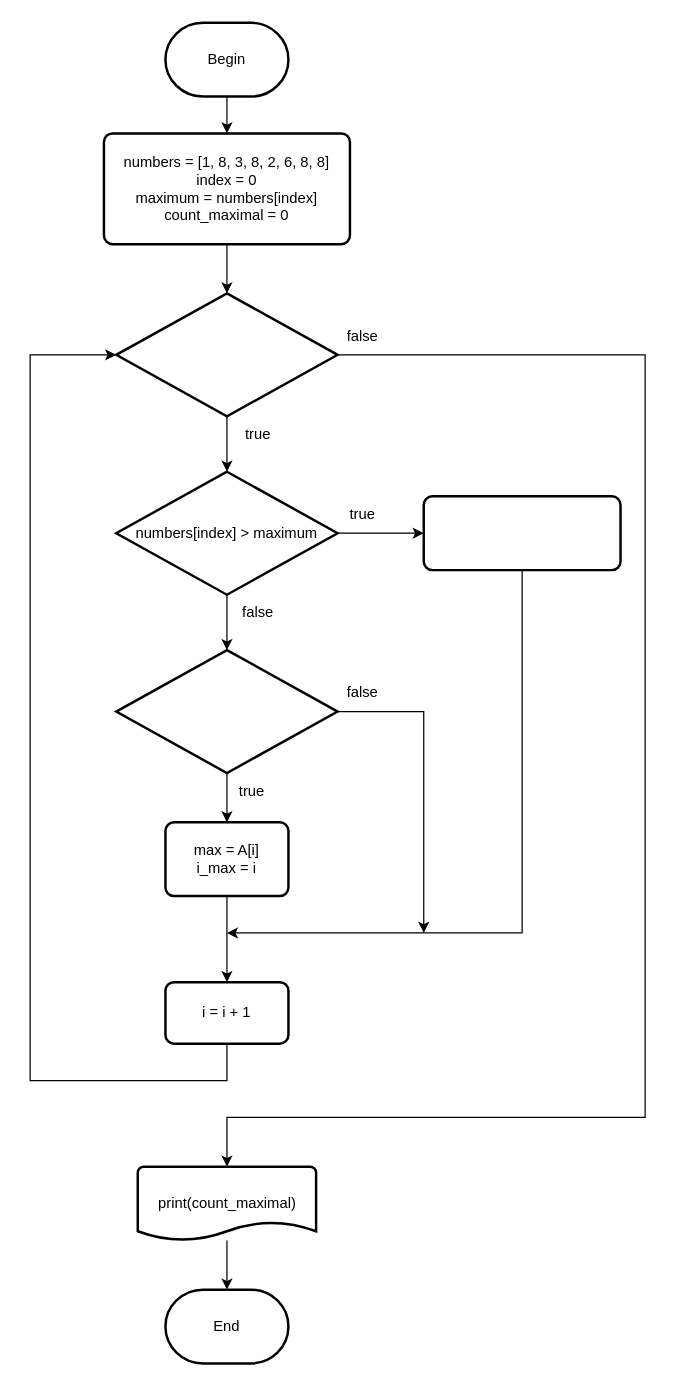
Image size: 677x1385. Some labels were removed from this diagram. Here are the shapes that lost their labels. From the top down, the centre of each, then its label:
point (226, 354): index < numbers.length
point (521, 532): maxmum = numbers[index] count_maximal = 1
point (226, 711): numbers[index] == maximum
